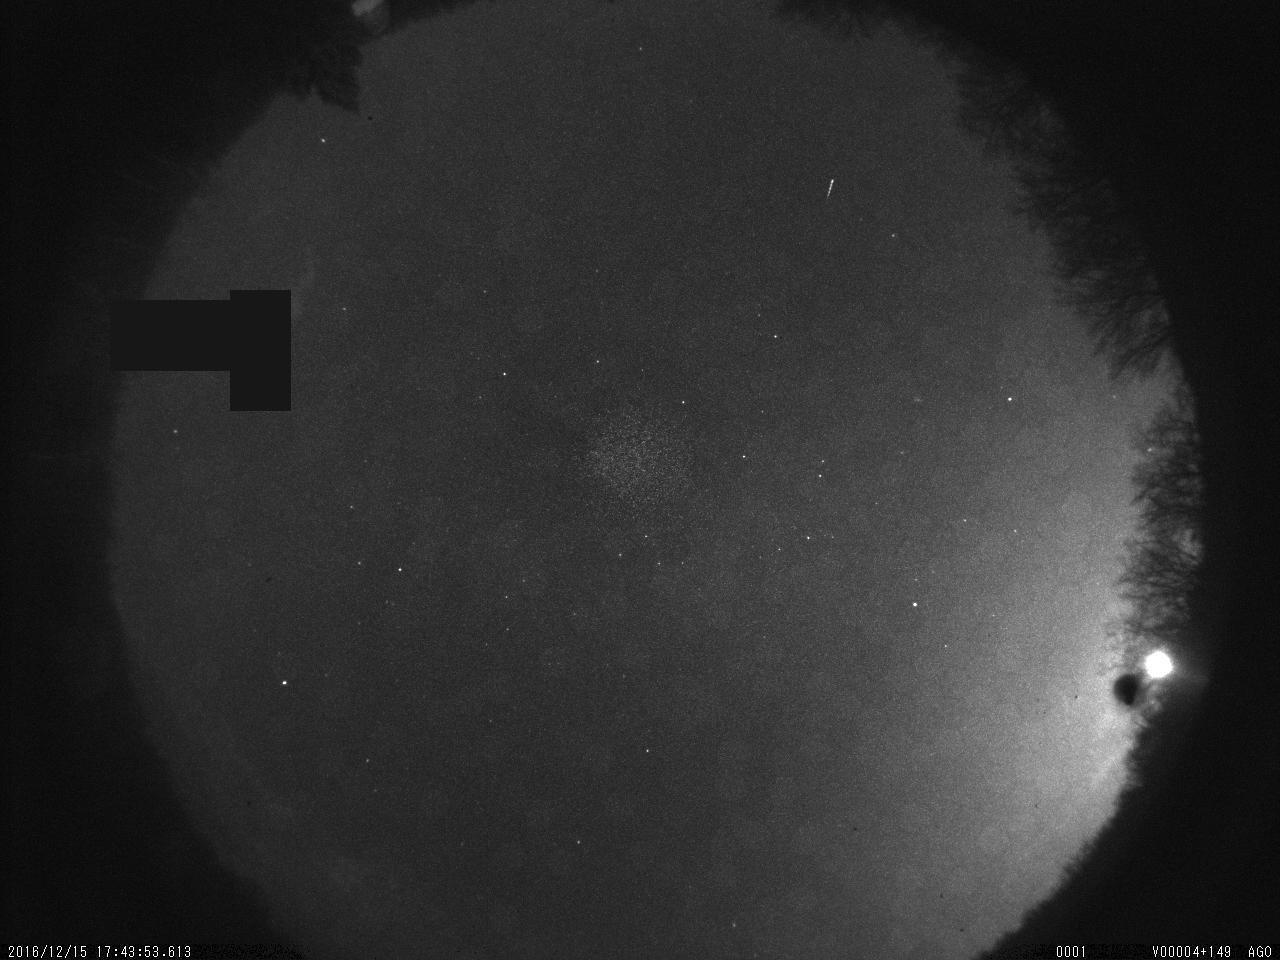Meteor: (820, 169, 841, 204)
